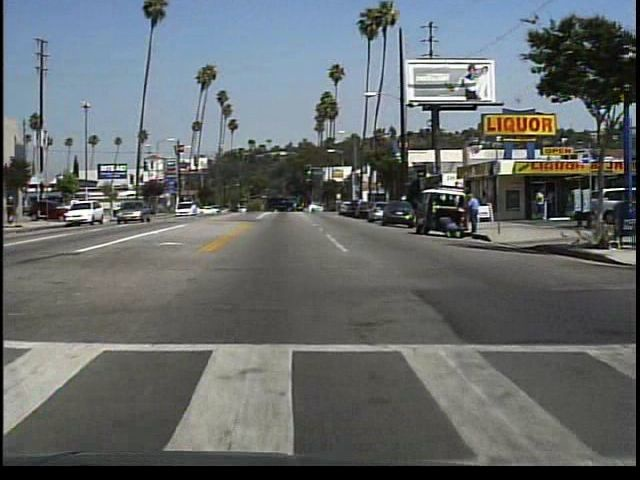person: (466, 190, 486, 238), (533, 186, 548, 225), (438, 214, 459, 240), (9, 194, 20, 225), (546, 187, 557, 218)
